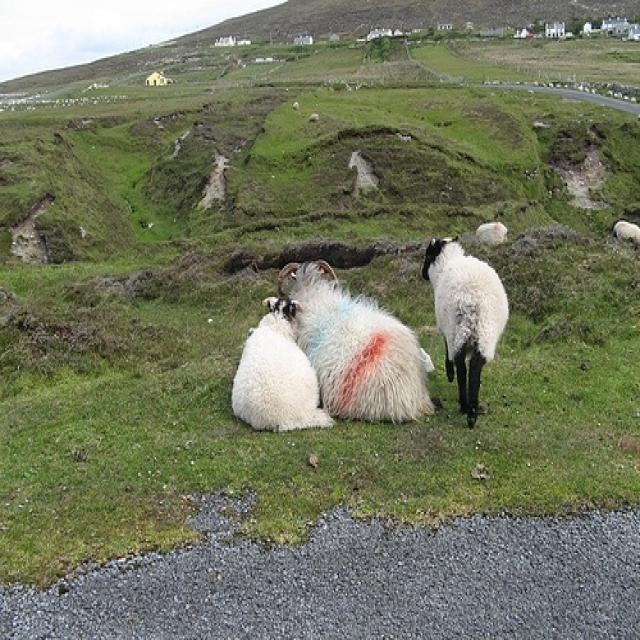sheep: (276, 261, 440, 415), (421, 236, 510, 422), (230, 291, 330, 428)
